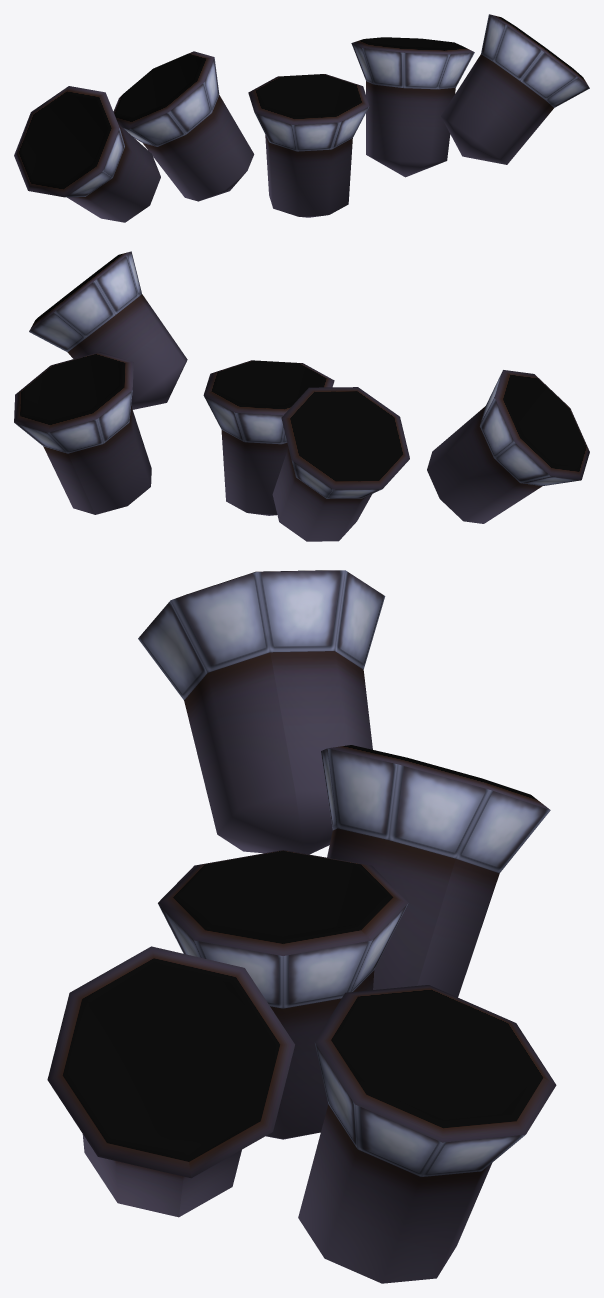
Rendered from dicso_light_5_core.DAE.
3 renders of one model, top to bottom at view 1: azimuth 30°, elevation 25°; view 2: azimuth 150°, elevation 25°; view 3: azimuth 270°, elevation 25°, orthographic. The views are drawn at different scales.
Parts seen in each view (by area): view 1: Cylinder02; view 2: Cylinder02; view 3: Cylinder02.
Part boxes in pixels (x1=…): Cylinder02: x1=14, y1=14, x2=589, y2=222; Cylinder02: x1=14, y1=251, x2=589, y2=541; Cylinder02: x1=47, y1=570, x2=556, y2=1283.
Size of the model in its own units: 2.54 by 0.8559 by 1.07.
